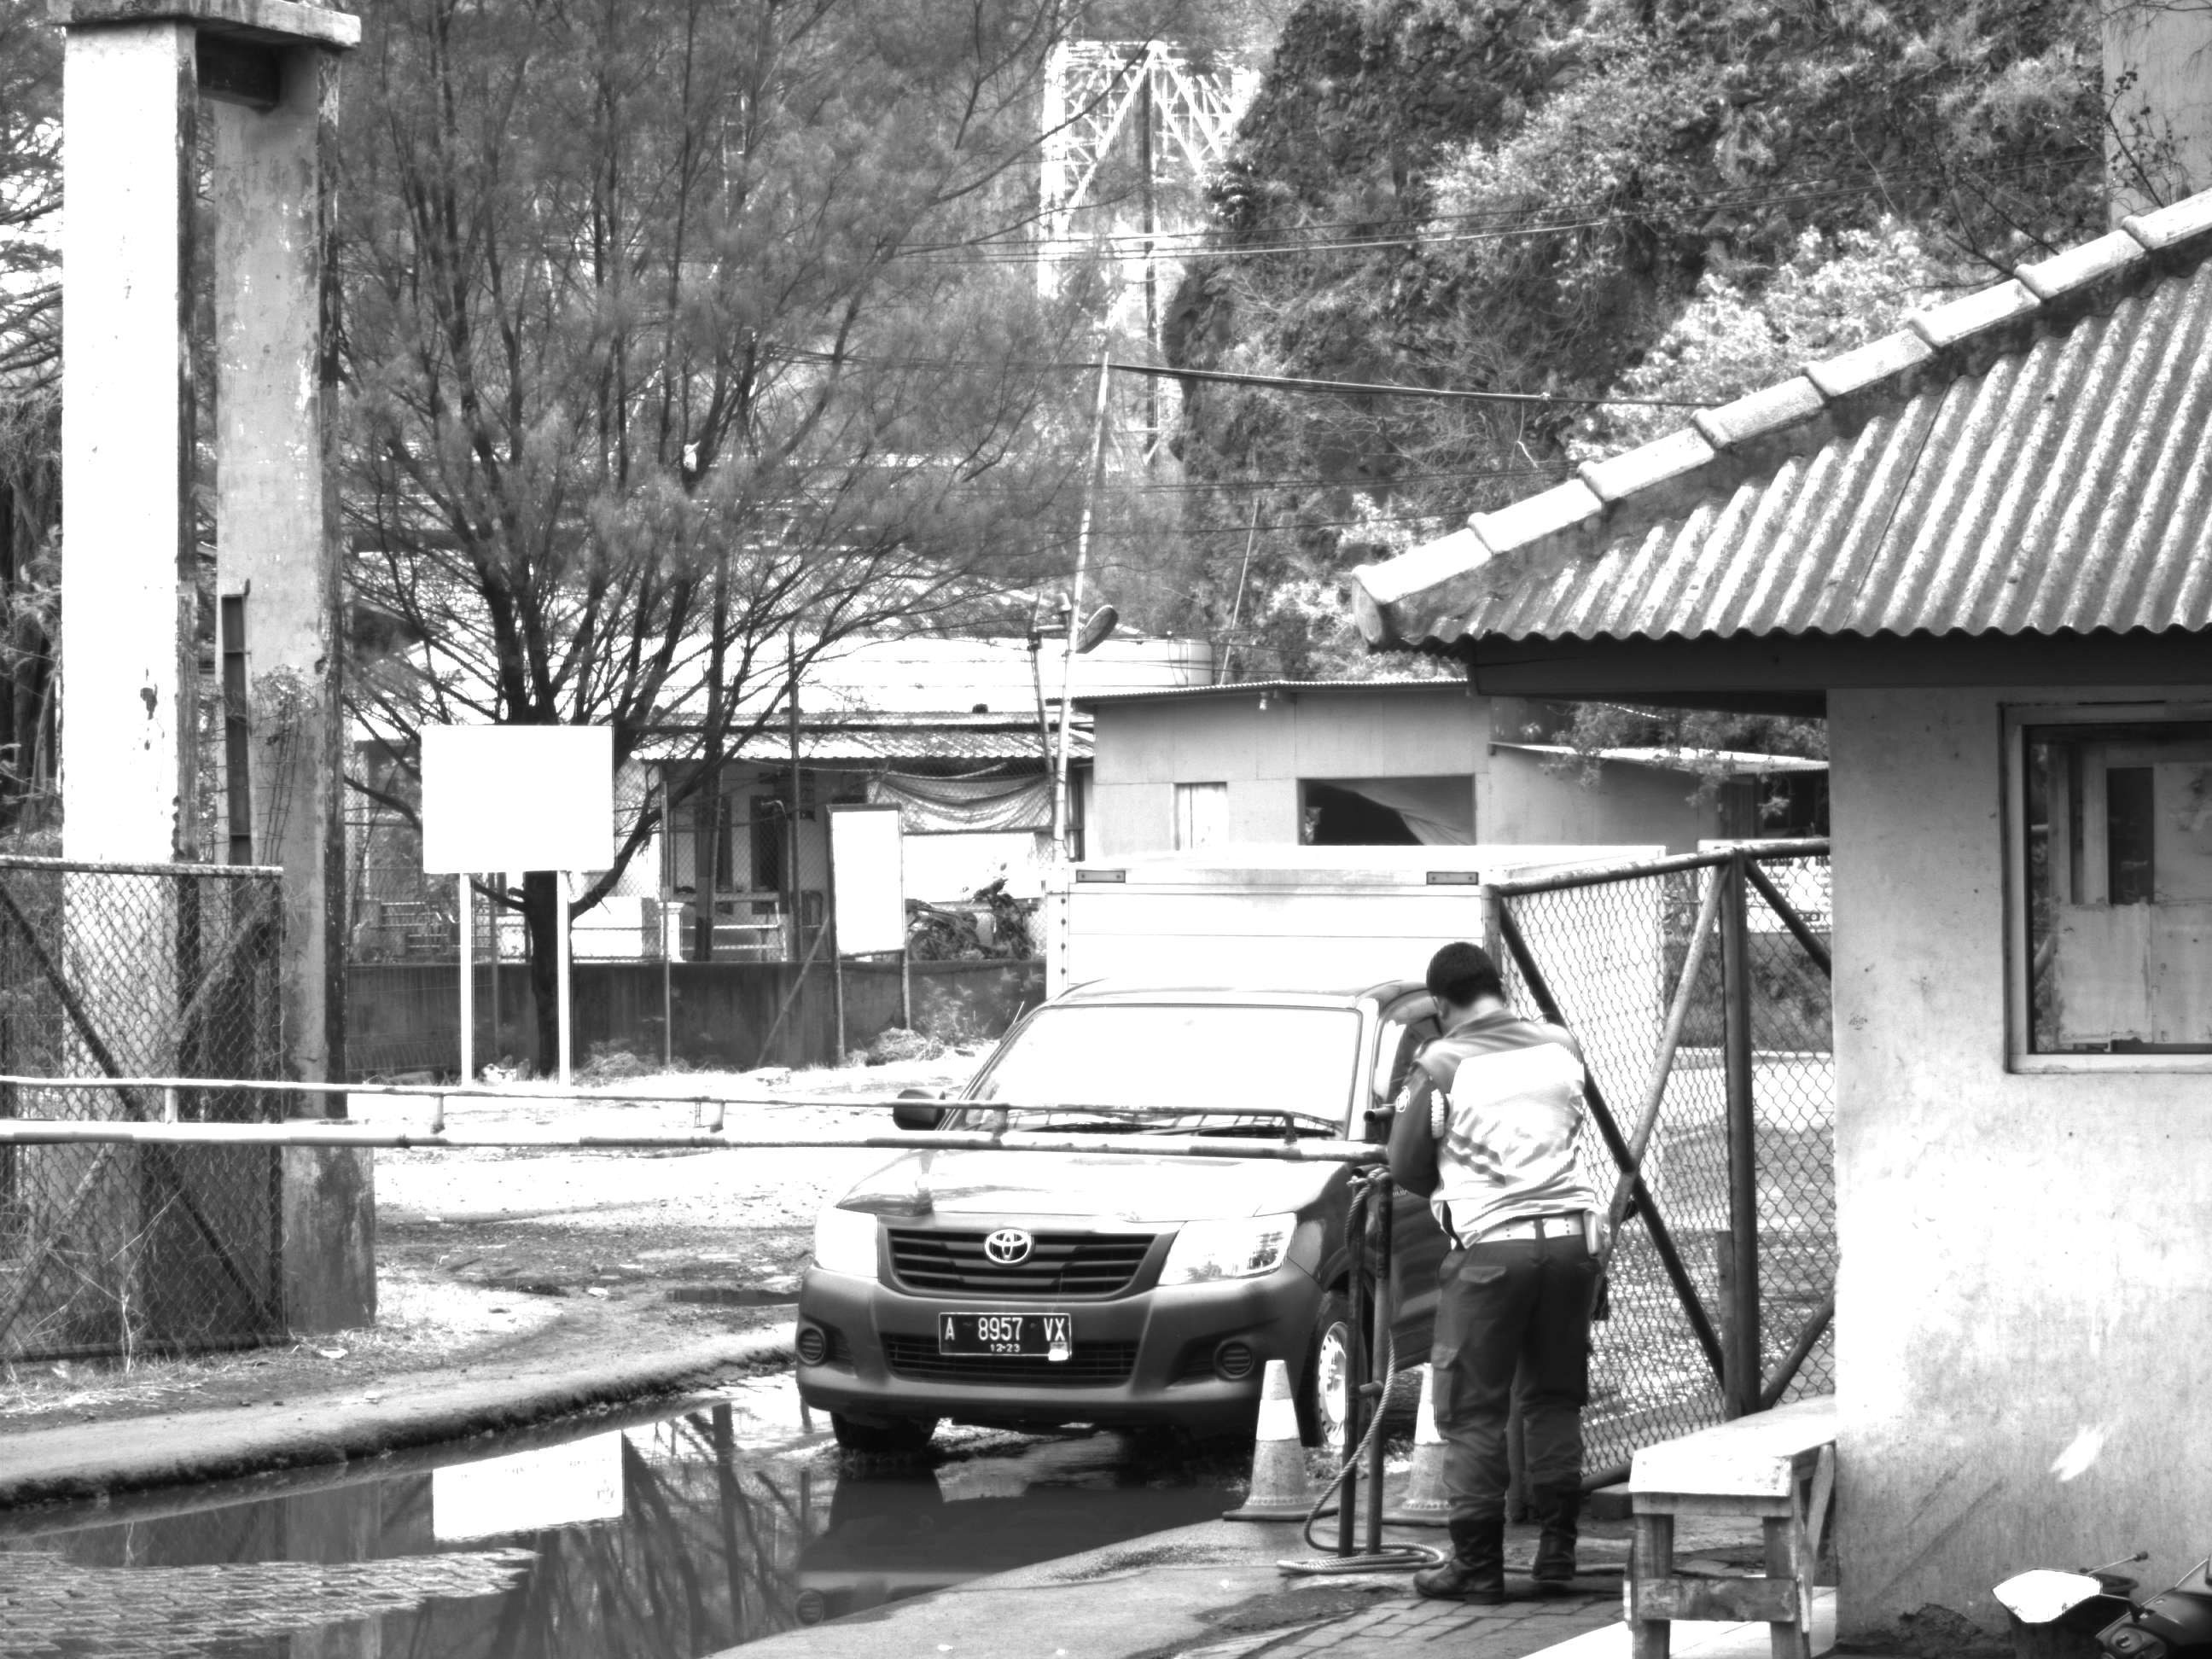day_small_front: (792, 980, 1387, 1462)
plate: (934, 1311, 1078, 1362)
